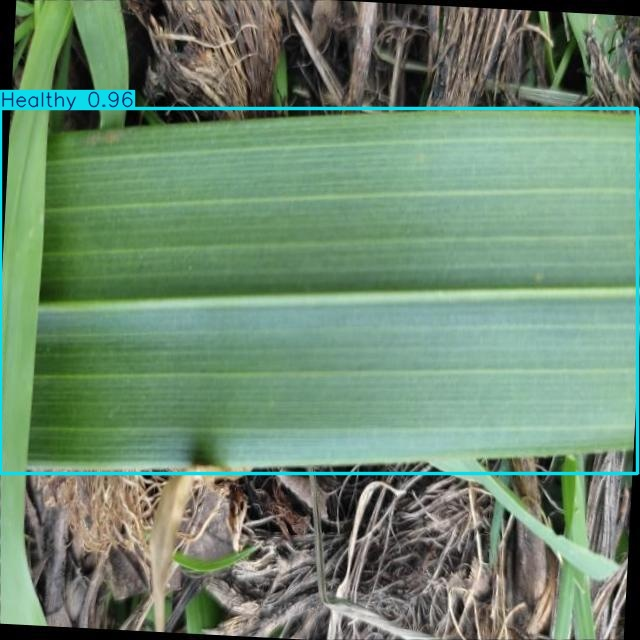Healthy: (0, 109, 637, 473)
